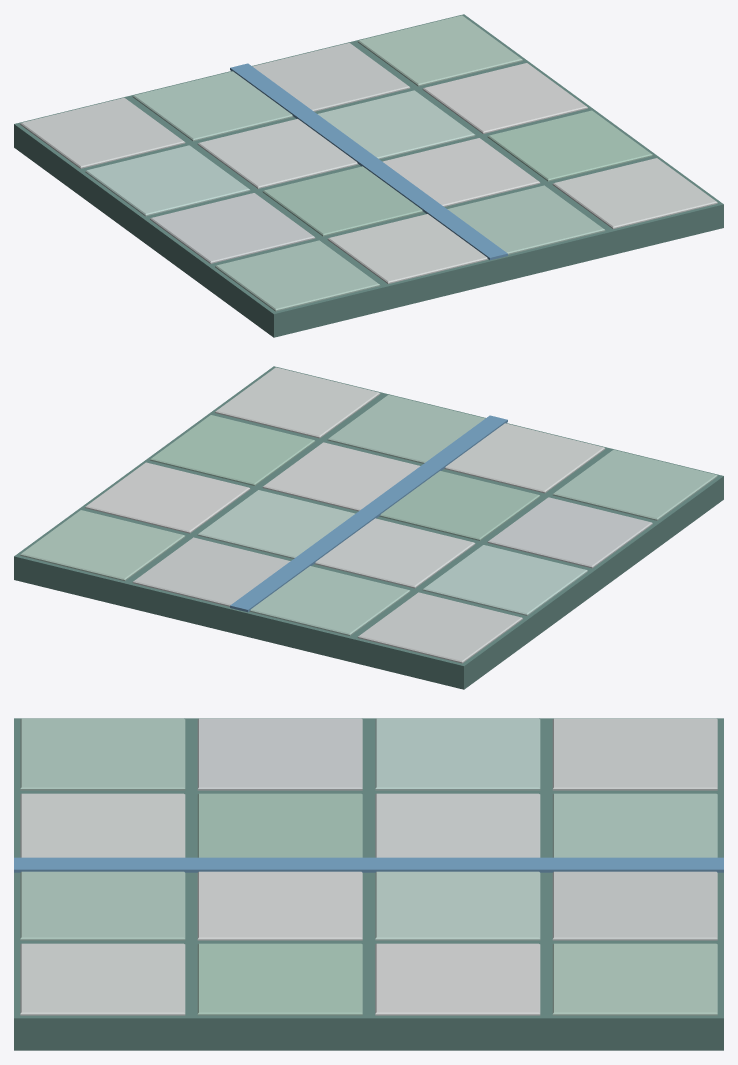
File: floor_b.fbx
3 views of the same model, one above another, from view 1: azimuth 30°, elevation 25°; view 2: azimuth 150°, elevation 25°; view 3: azimuth 270°, elevation 25° (orthographic). The views are drawn at different scales.
Visible parts, largest first — view 1: floor_b; view 2: floor_b; view 3: floor_b.
Part boxes in pixels (x1,y1,x2,y2): floor_b: (14, 14, 723, 337); floor_b: (14, 366, 723, 689); floor_b: (14, 718, 723, 1050).
Size of the model in its own units: 4 by 0.23 by 4.
